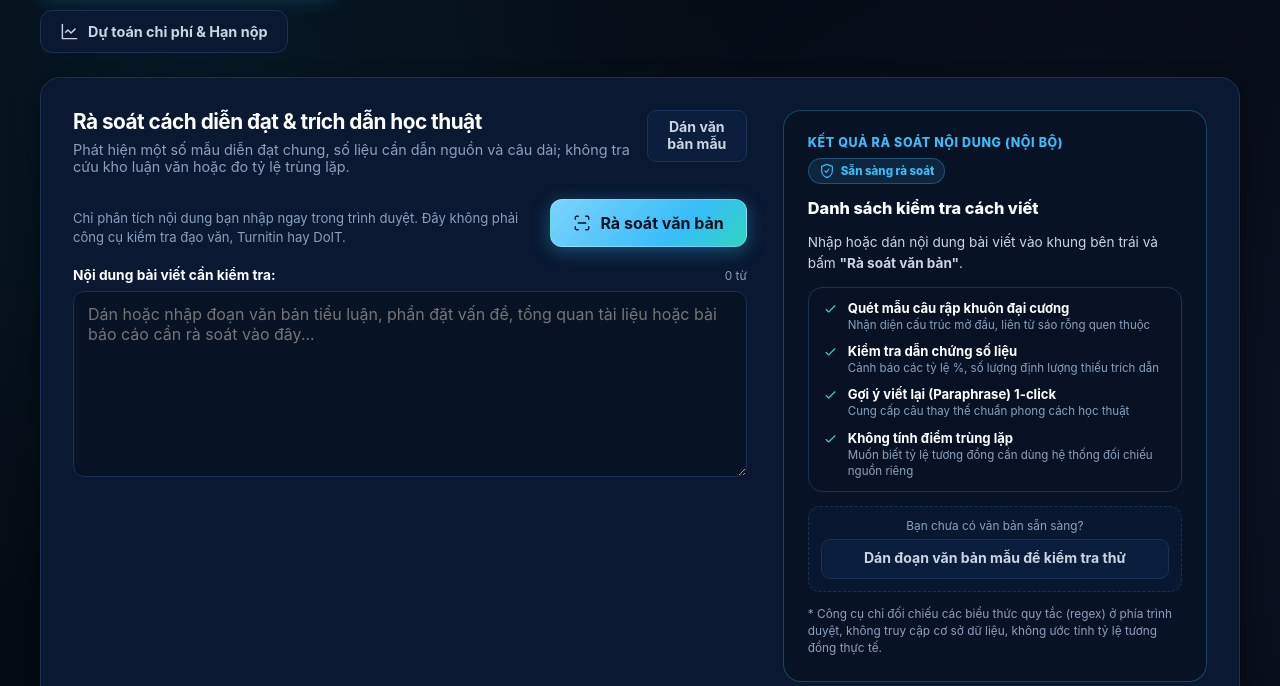
Test: StudentToolkit › rà soát nội bộ, không giả định điểm Turnitin hay phần trăm nguyên bản
(page scrolled)
Type "Trong bối cảnh hội nhập quốc tế, chúng ta cần xem xét đề tài trong bối cảnh thực tế." into the text box labelled "Nội dung bài viết cần kiểm tra:" at (410, 384), box [73,291,747,477]
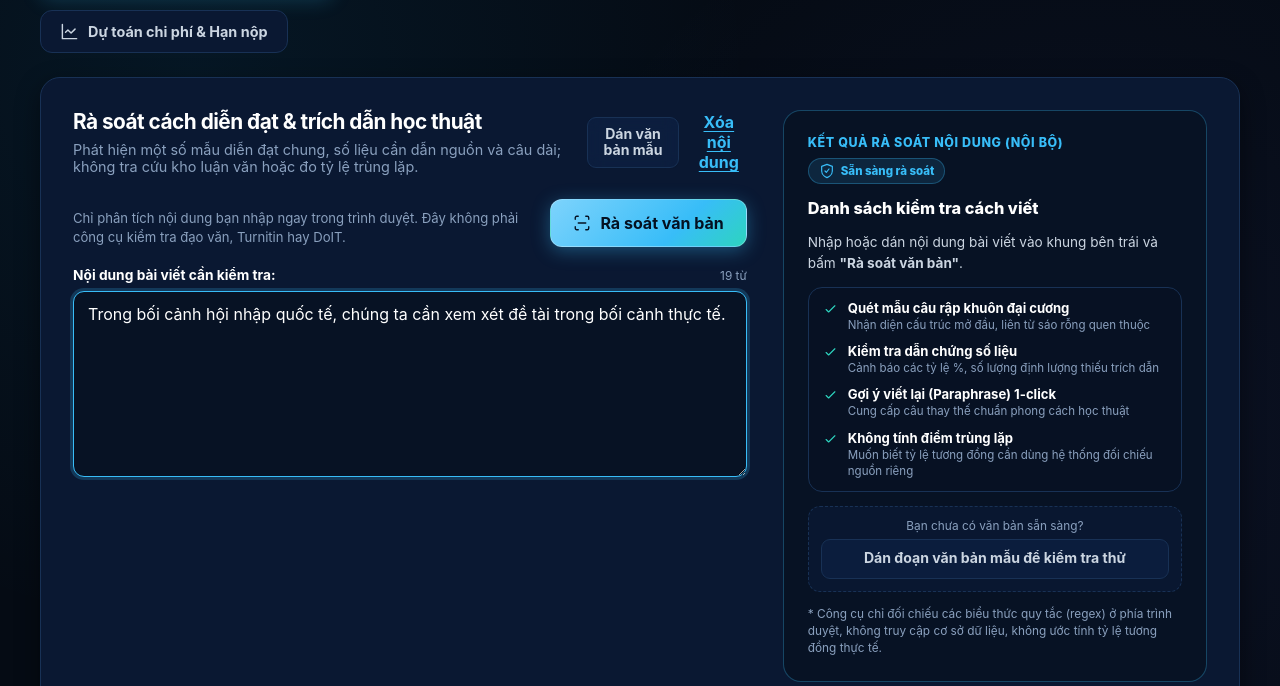
Click the button "Rà soát văn bản" at (649, 223), box [550,199,747,247]
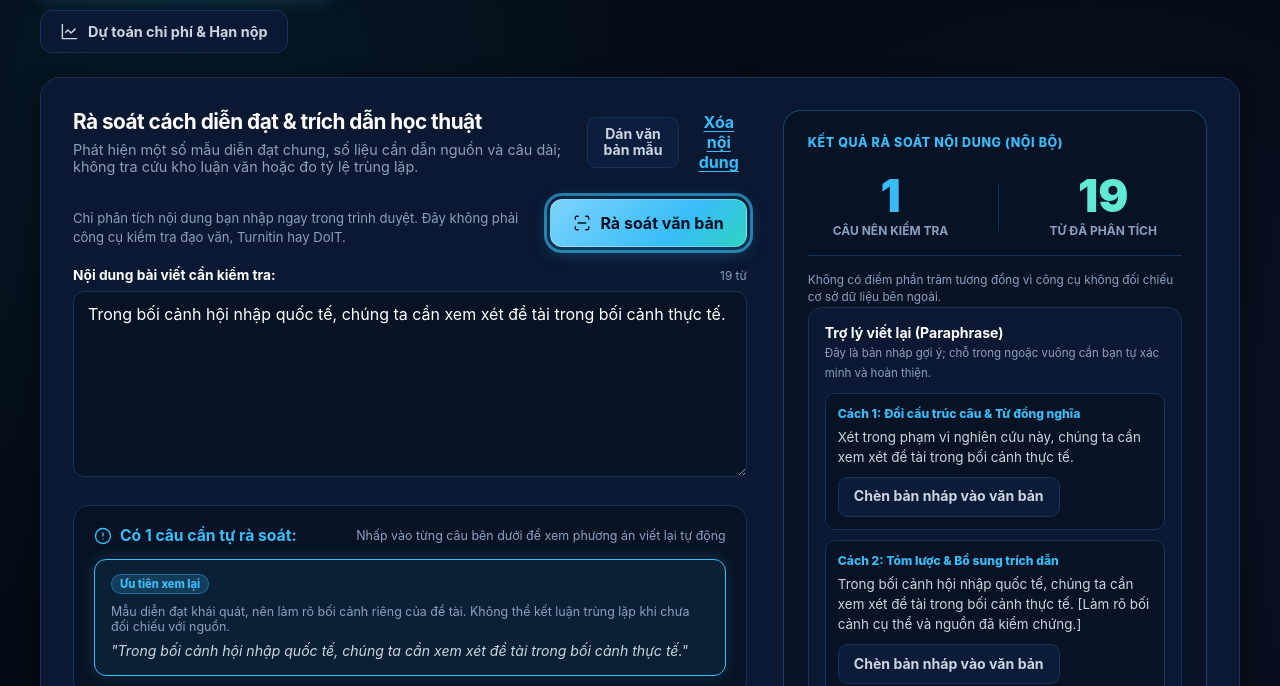
Expected: the text "Kết quả rà soát nội dung (nội bộ)" is shown, [808,135,1063,150]
Expected: the text "Không có điểm phần trăm tương đồng" is shown, [808,273,1173,304]
